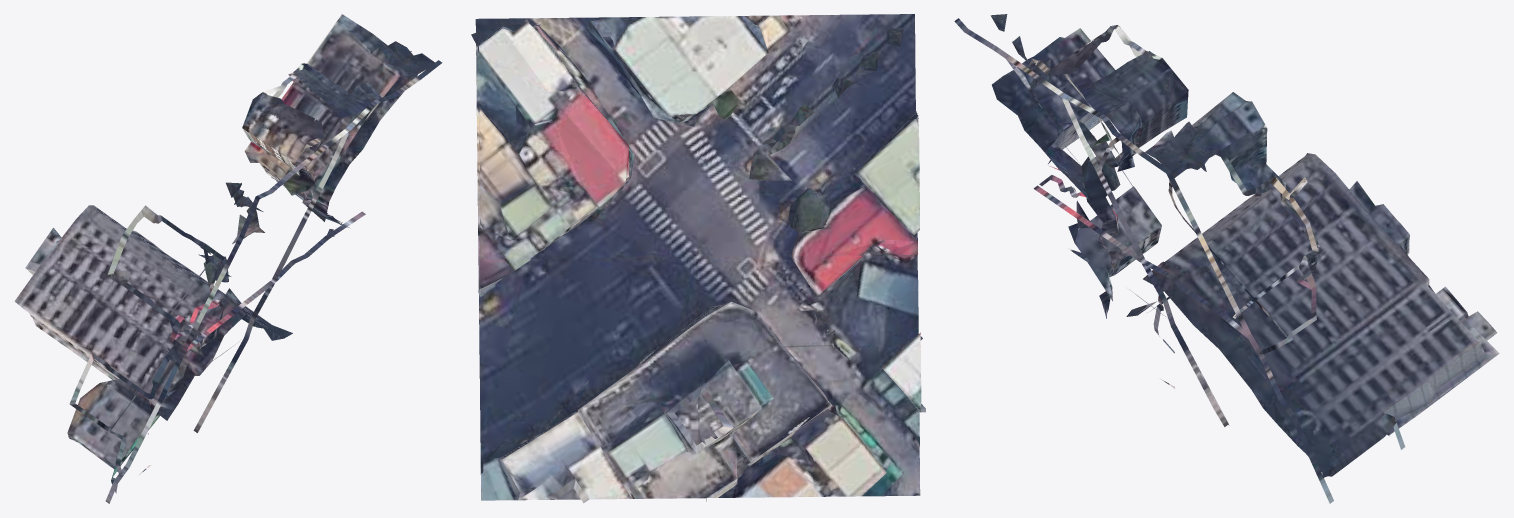
3 renders of one model, left to right at view 1: azimuth 30°, elevation 25°; view 2: azimuth 150°, elevation 25°; view 3: azimuth 270°, elevation 25°, orthographic. The views are drawn at different scales.
Bounding box in the file's own units: 80.48 × 76.63 × 91.42.
Materials: 1 (1 with a texture image).
